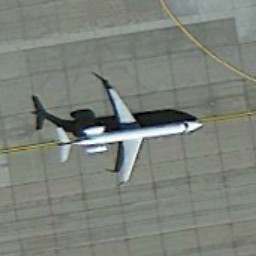Airplane: (38, 73, 209, 194)
